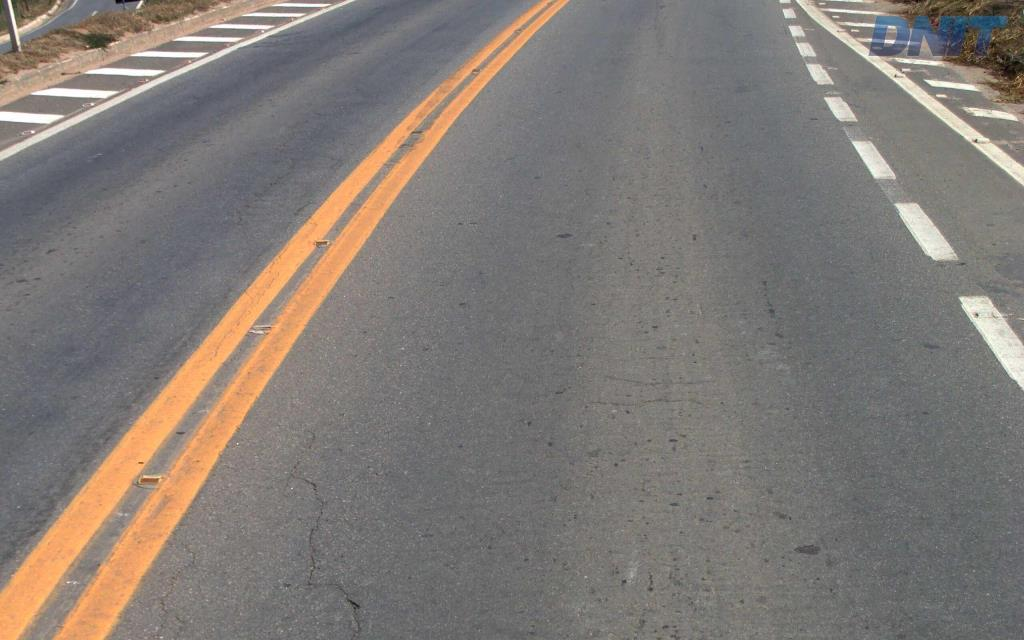crack: (341, 590, 367, 639)
